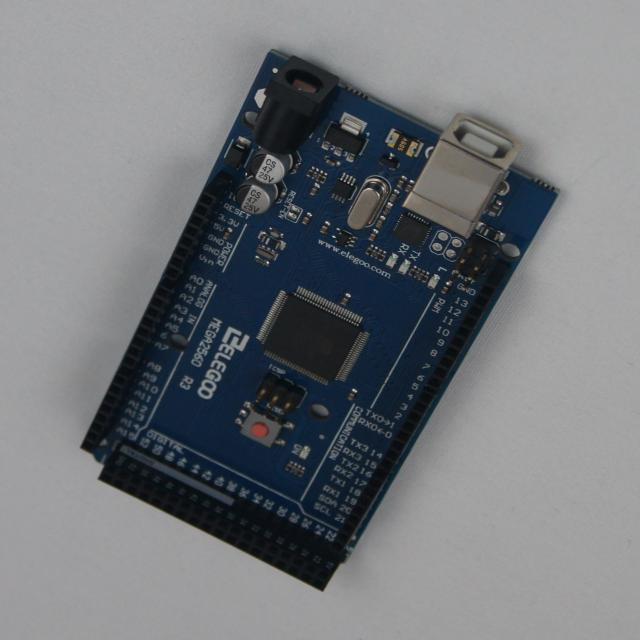Arduino Mega 2560 -Blue-: (83, 52, 557, 591)
